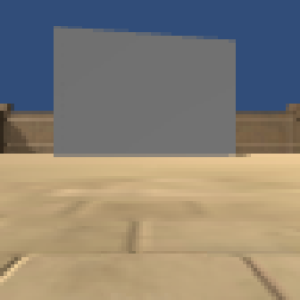wall: (52, 26, 237, 159)
